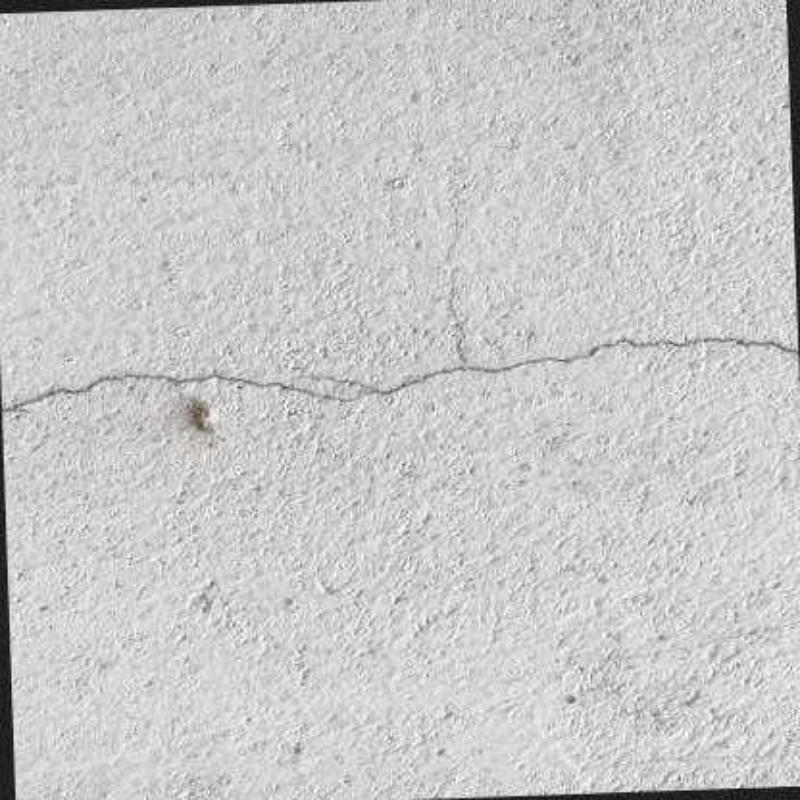pothole: (304, 192, 799, 394), (0, 374, 348, 412)
